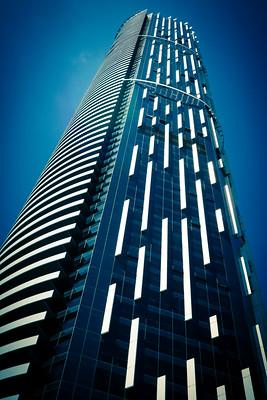building: (1, 6, 267, 400)
